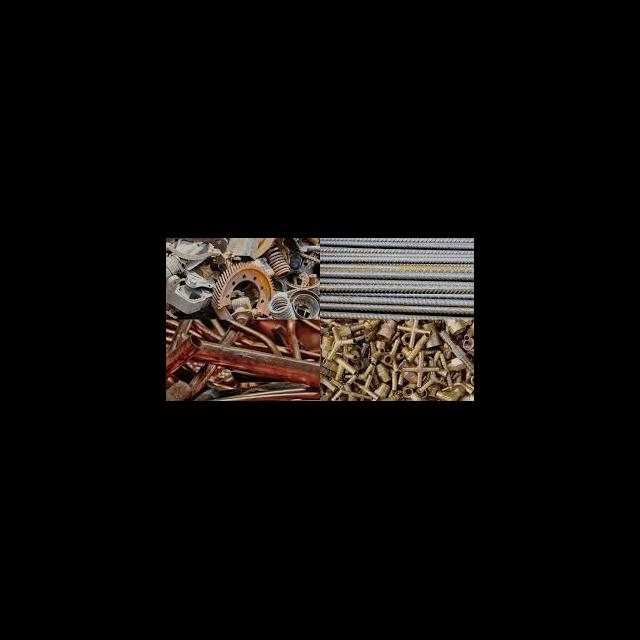metal: (172, 328, 325, 391), (208, 260, 285, 328), (316, 270, 473, 292), (220, 312, 289, 358), (316, 254, 473, 274), (317, 306, 473, 324), (317, 290, 473, 308), (315, 240, 473, 256), (166, 268, 214, 316), (166, 328, 205, 383), (436, 328, 473, 378), (397, 348, 438, 386), (323, 324, 358, 362), (262, 244, 292, 282), (288, 290, 319, 326), (402, 331, 432, 364), (267, 294, 296, 328), (328, 352, 361, 376), (431, 382, 463, 400), (364, 338, 386, 364), (373, 362, 389, 384)
